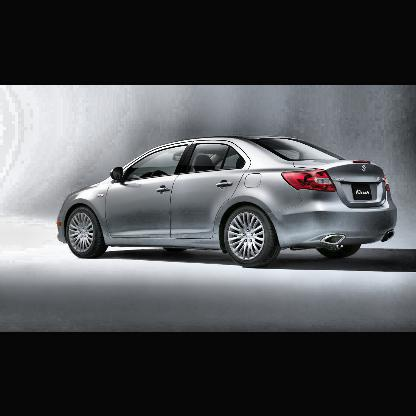Suzuki Kizashi Sedan 2012: (54, 131, 401, 272)
